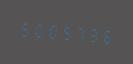five: (17, 15, 30, 40), (59, 19, 72, 44)
seven: (73, 20, 86, 45)
six: (101, 23, 114, 48)
three: (87, 21, 100, 46)
zero: (31, 17, 44, 42), (45, 18, 58, 43)
